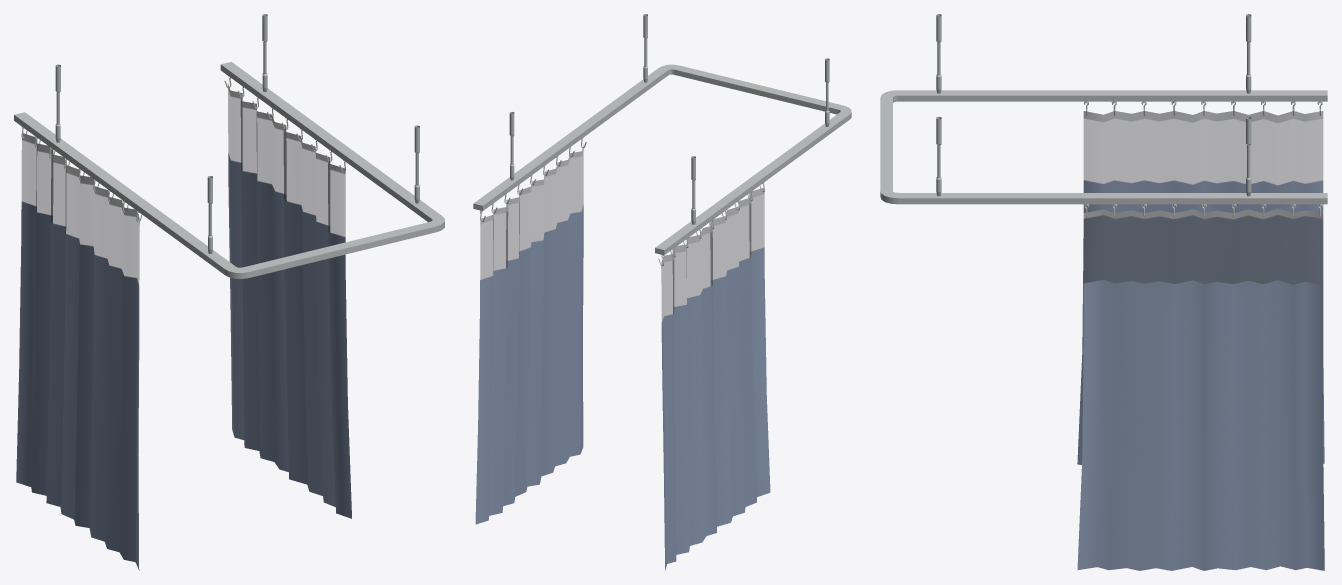
The model's file is OSG_Scene.gltf.
3 renders of one model, left to right at view 1: azimuth 30°, elevation 25°; view 2: azimuth 150°, elevation 25°; view 3: azimuth 270°, elevation 25°, orthographic. The views are drawn at different scales.
Size of the model in its own units: 4.22 by 8.21 by 7.39.
2 materials, 2 textured.
